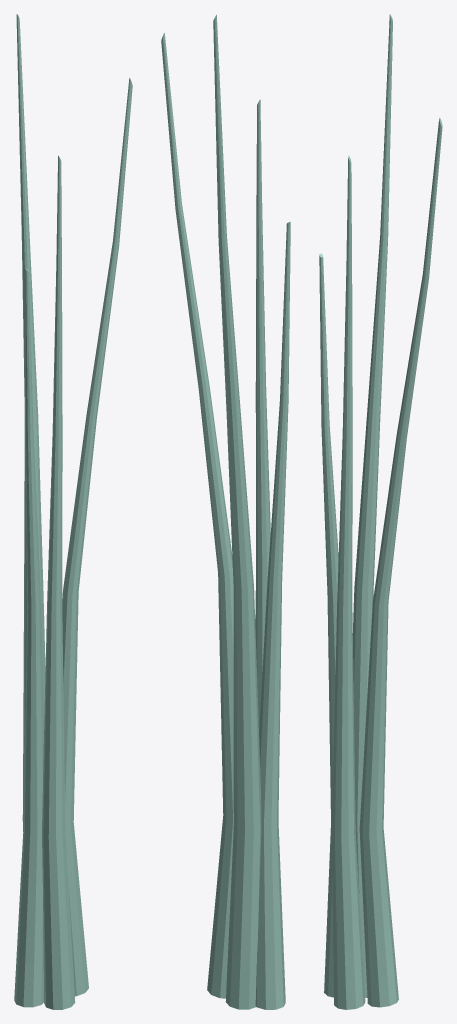
Rendered from OceansEssence.fbx.
The picture shows the model from 3 angles, left to right: view 1: azimuth 30°, elevation 25°; view 2: azimuth 150°, elevation 25°; view 3: azimuth 330°, elevation 25°; orthographic projection. The views are drawn at different scales.
Parts seen in each view (by area): view 1: OceansEssence; view 2: OceansEssence; view 3: OceansEssence.
Part boxes in pixels (x1,y1,x2,y2): OceansEssence: (14,14,132,1009); OceansEssence: (161,14,290,1009); OceansEssence: (319,14,442,1009).
Bounding box in the file's own units: 21.35 × 168 × 15.85.
